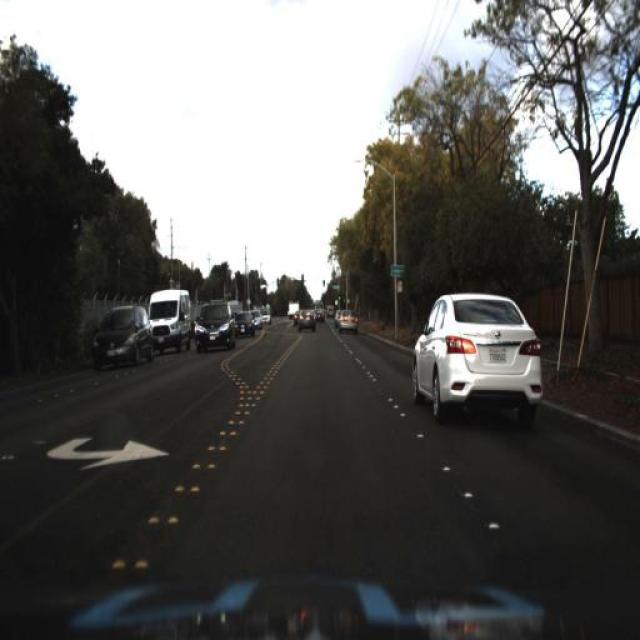car: (408, 287, 544, 419), (87, 301, 155, 373), (144, 288, 192, 362), (187, 295, 235, 356), (338, 302, 363, 336), (296, 307, 319, 337)
